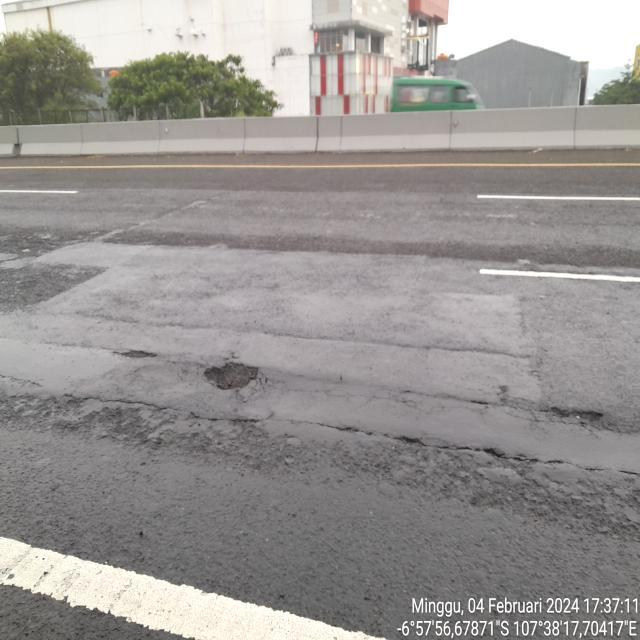Buraco: (201, 360, 263, 392)
